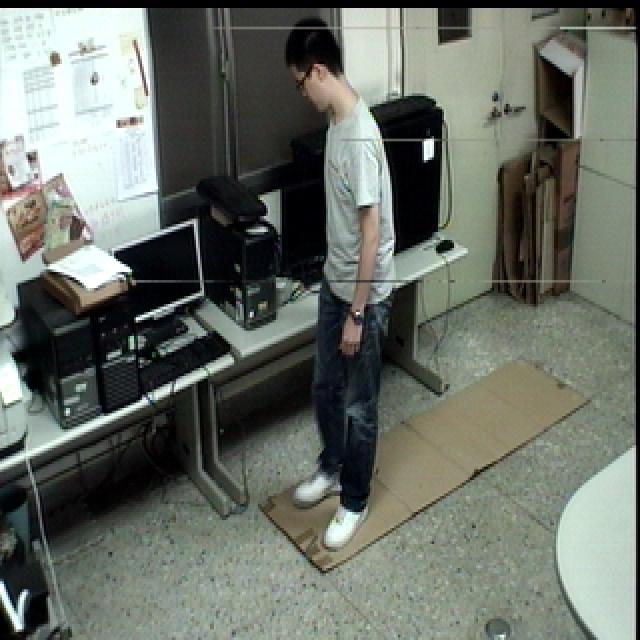stand: (276, 12, 404, 558)
